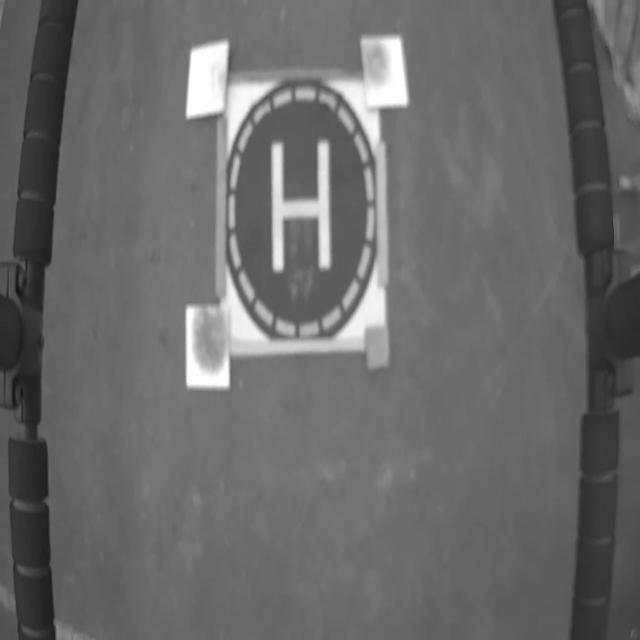Helipad: (271, 138, 333, 272)
